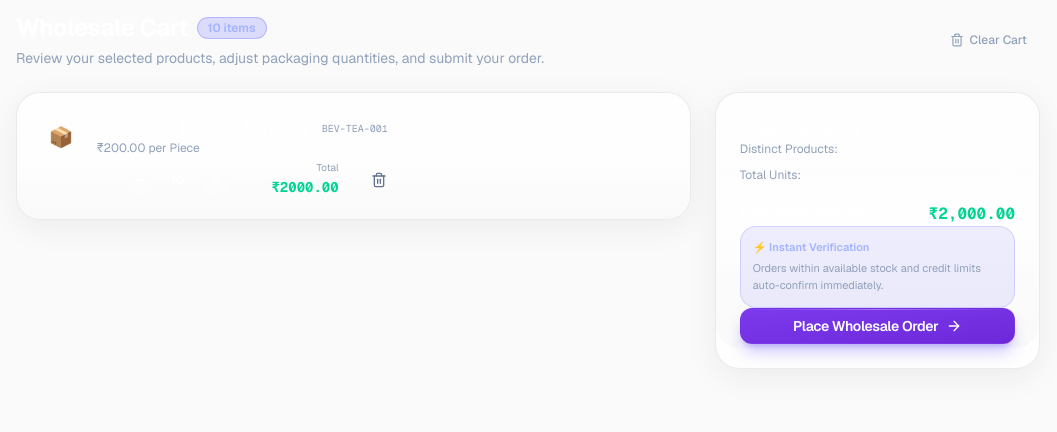
Test case: Portal Cart Page (app/portal/cart/page.tsx) › should render cart items, calculate line totals, and place auto-confirmed order
Expected: the text "BEV-TEA-001" is shown, [315,120,395,136]
Expected: the text "₹2,000.00" is shown, [928,202,1015,226]
Click the button "Place Wholesale Order" at (877, 326), box [740,308,1015,344]
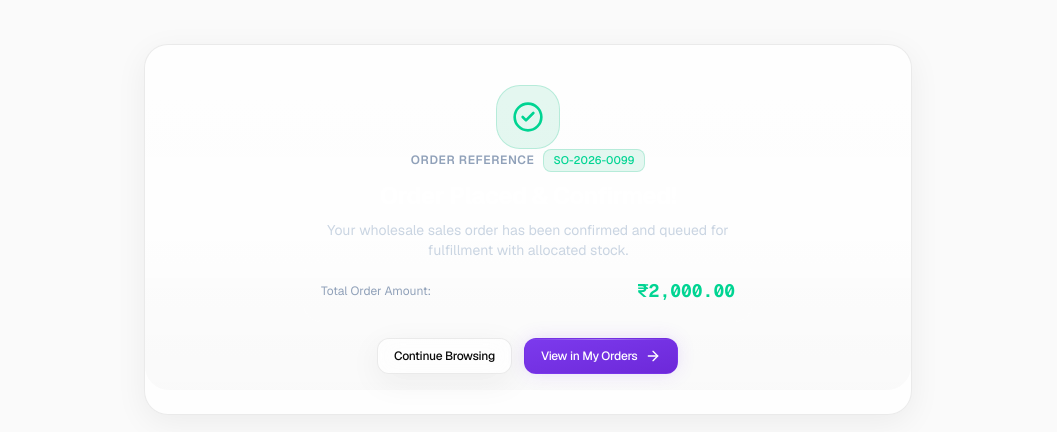
Expected: the text "SO-2026-0099" is shown, [542,149,645,172]
